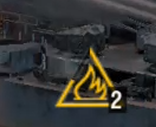2fire: (52, 73, 129, 114)
